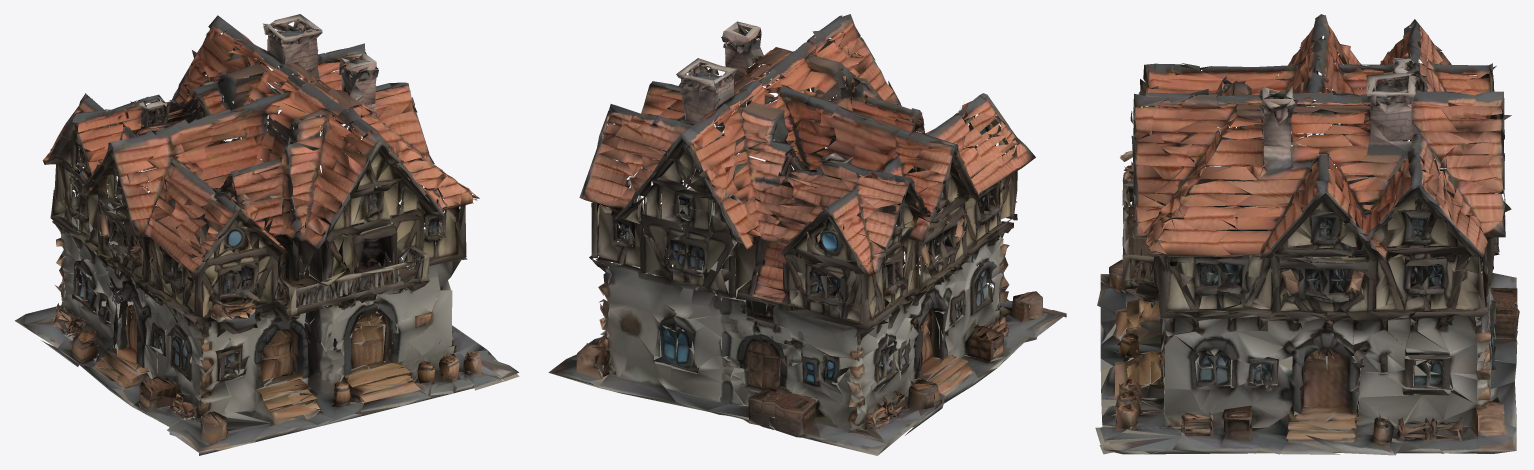
File: A_modular_medieval_ho_town.glb
3 views of the same model, side by side, from view 1: azimuth 30°, elevation 25°; view 2: azimuth 150°, elevation 25°; view 3: azimuth 270°, elevation 25° (orthographic). The views are drawn at different scales.
Visible parts, largest first — view 1: A_modular_medieval_ho; view 2: A_modular_medieval_ho; view 3: A_modular_medieval_ho.
Boxes of the visible parts, <box> form: A_modular_medieval_ho: <box>15,14,519,455</box>; A_modular_medieval_ho: <box>548,14,1066,455</box>; A_modular_medieval_ho: <box>1095,14,1519,455</box>.
Bounding box in the file's own units: 2.02 × 1.68 × 2.03.
Materials: 1 (1 with a texture image).
